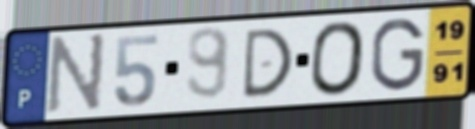5: (111, 31, 159, 110)
9: (185, 25, 232, 108)
D: (240, 25, 296, 101)
G: (369, 16, 426, 94)
N: (43, 31, 109, 117)
O: (308, 18, 368, 98)
